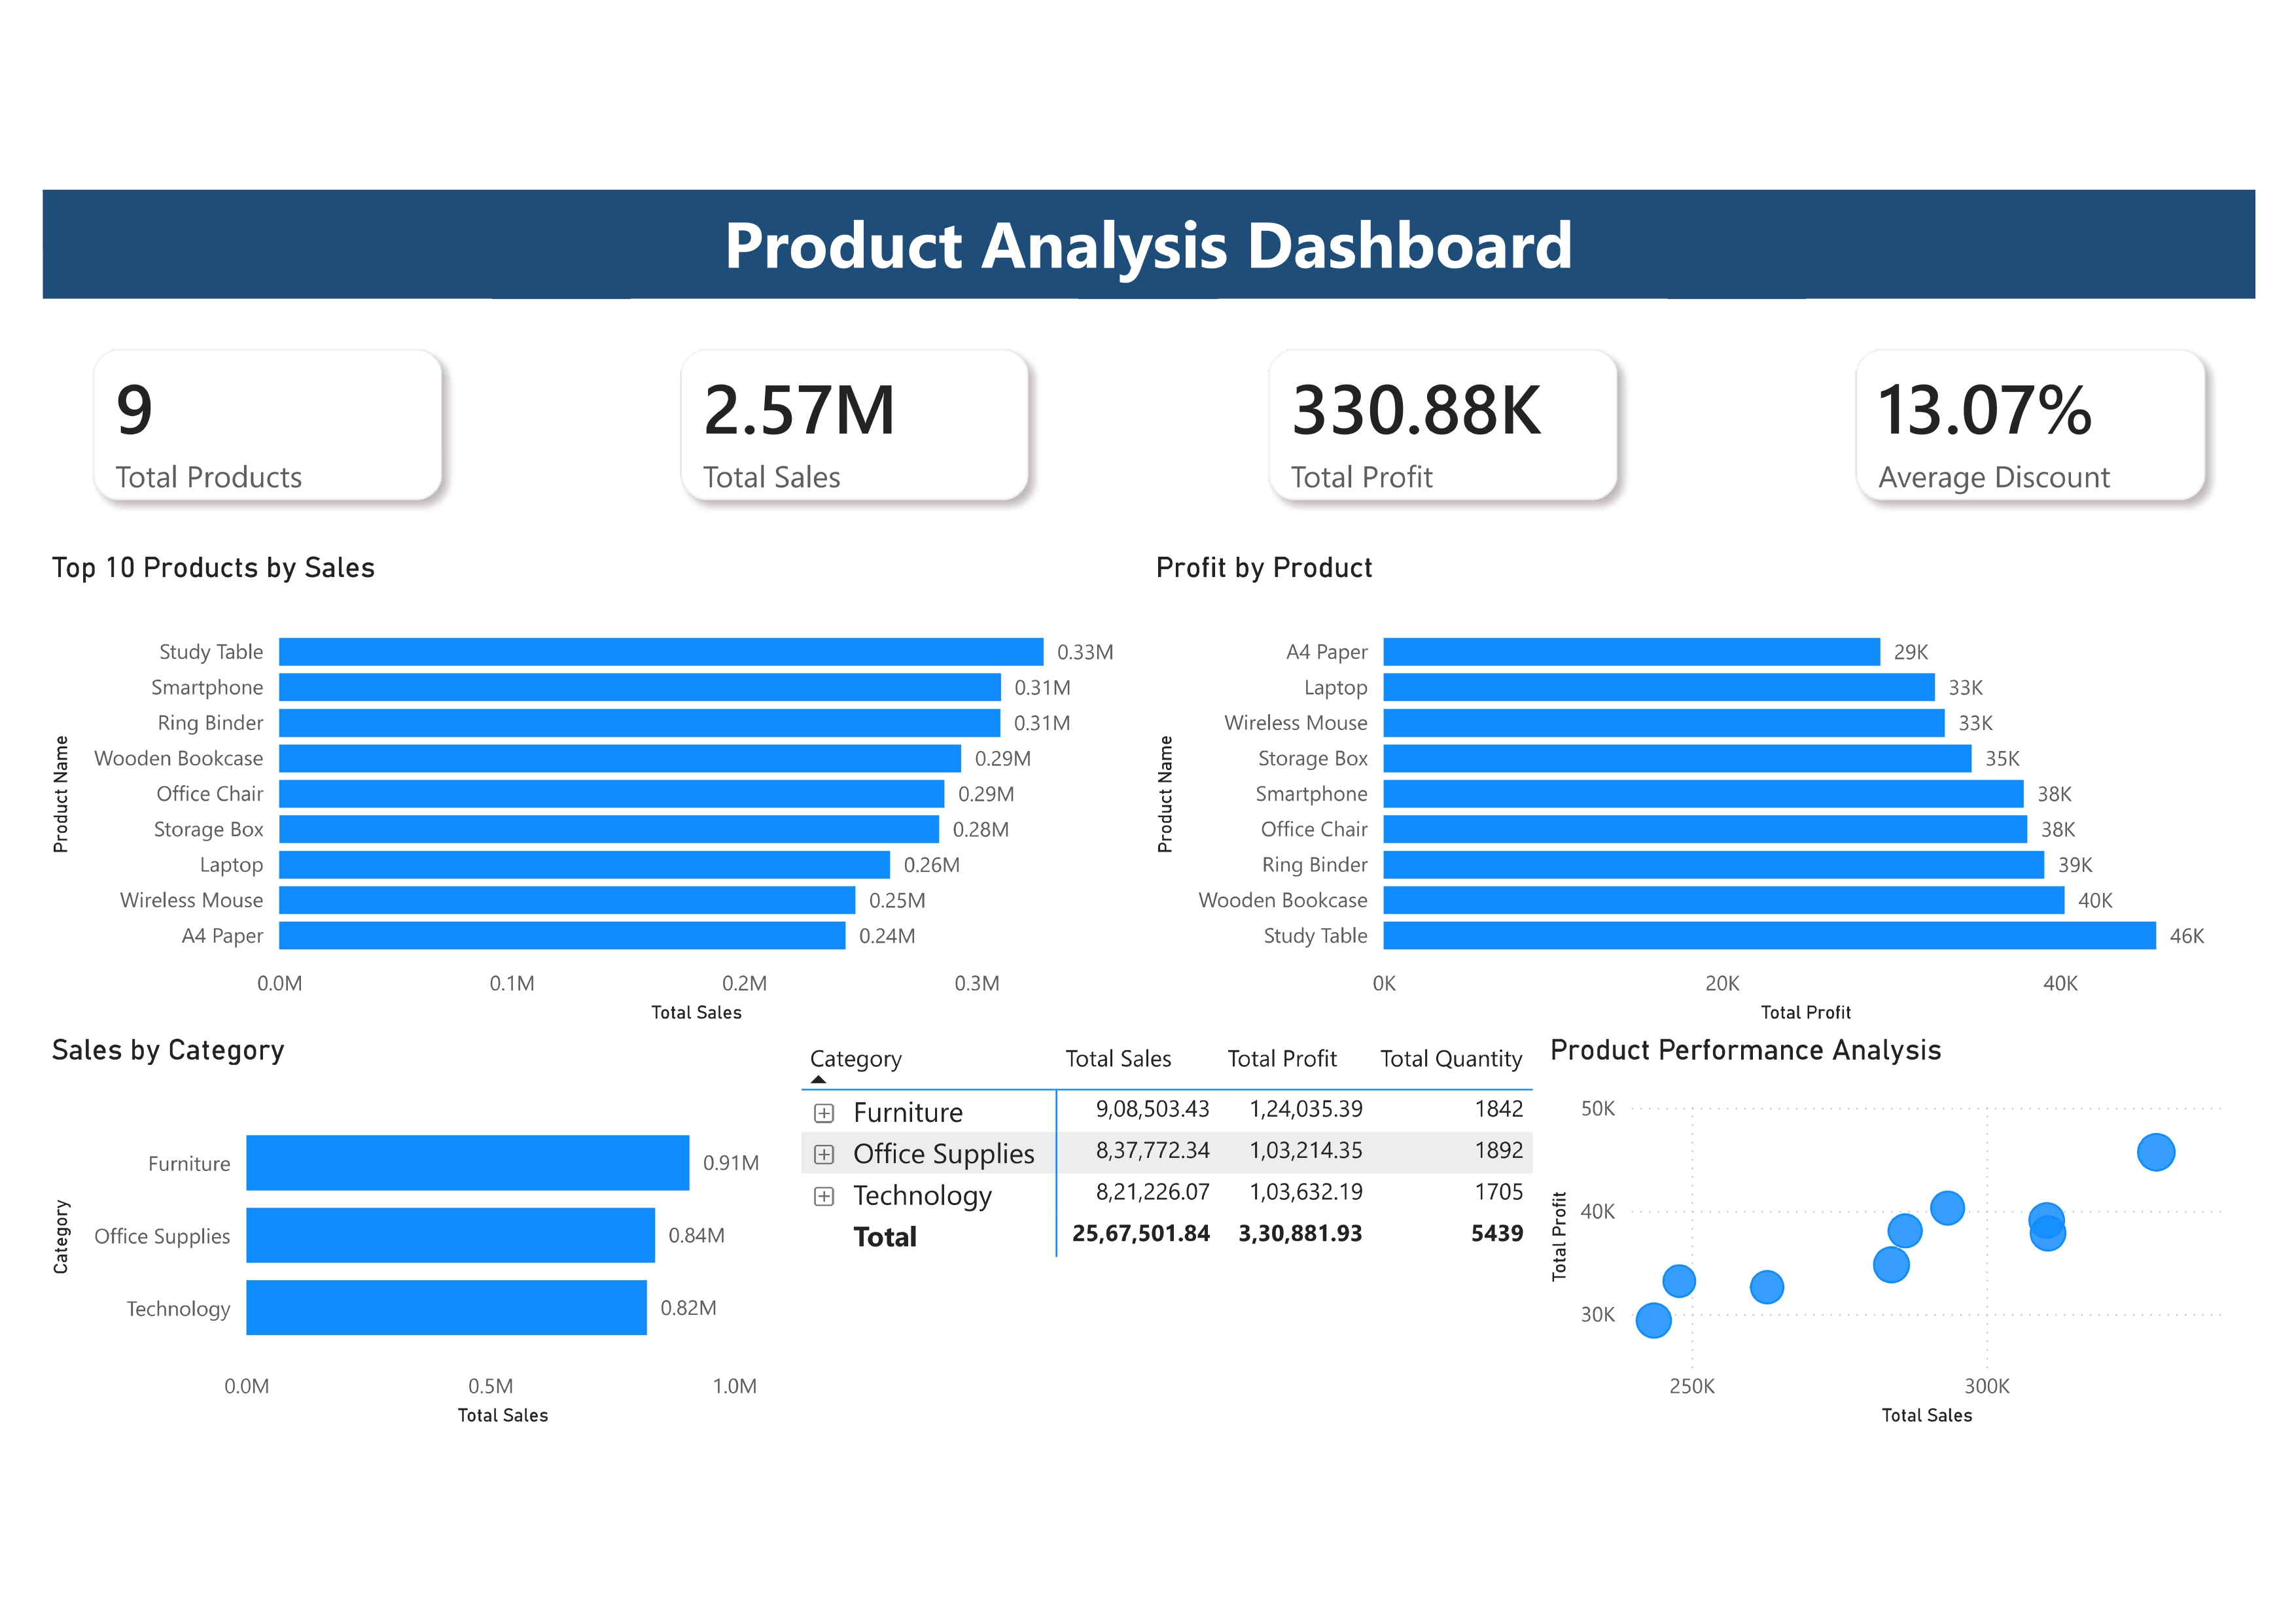

The dashboard page shown, as its layout file describes it:
{"tool":"powerbi","page":{"name":"Product Analysis","canvas":[1280,720],"ordinal":1},"visuals":[{"type":"textbox","box":[0,0,1280.3,63.4],"z":0},{"type":"cardVisual","fields":{"Data":["Orders.Total Products"]},"box":[0,63.4,260.4,144.4],"z":1000},{"type":"cardVisual","fields":{"Data":["Orders.Total Sales"]},"box":[340,63.4,259,144.4],"z":2000},{"type":"cardVisual","fields":{"Data":["Orders.Total Profit"]},"box":[679.9,63.4,260.4,144.4],"z":3000},{"type":"cardVisual","fields":{"Data":["Orders.Average Discount"]},"box":[1019.9,63.4,260.4,144.4],"z":4000},{"type":"clusteredBarChart","title":"Top 10 Products by Sales","fields":{"Category":["Orders.Product Name"],"Y":["Orders.Total Sales"]},"box":[0,207.8,639.5,279.3],"z":5000},{"type":"clusteredBarChart","title":"Profit by Product","fields":{"Category":["Orders.Product Name"],"Y":["Orders.Total Profit"]},"box":[639.5,207.8,640.8,279.3],"z":6000},{"type":"clusteredBarChart","title":"Sales by Category","fields":{"Category":["Orders.Category"],"Y":["Orders.Total Sales"]},"box":[0,487,434.4,233.4],"z":7000},{"type":"scatterChart","title":"Product Performance Analysis","fields":{"Category":["Orders.Product Name"],"Size":["Orders.Total Quantity"],"X":["Orders.Total Sales"],"Y":["Orders.Total Profit"]},"box":[867.5,487,412.8,233.4],"z":8000},{"type":"pivotTable","fields":{"Rows":["Orders.Category","Orders.Sub Category","Orders.Product Name"],"Values":["Orders.Total Sales","Orders.Total Profit","Orders.Total Quantity"]},"box":[434.4,487,433.1,233.4],"z":9000}]}

Visuals, with their boxes on the page's 1280x720 design canvas (x1, y1, x2, y2). These are canvas units, not pixel positions in the 2296x1623 screenshot, which may show the page scaled, cropped or inside an application window:
textbox: (left=0, top=0, right=1280, bottom=63)
cardVisual - Orders.Total Products: (left=0, top=63, right=260, bottom=208)
cardVisual - Orders.Total Sales: (left=340, top=63, right=599, bottom=208)
cardVisual - Orders.Total Profit: (left=680, top=63, right=940, bottom=208)
cardVisual - Orders.Average Discount: (left=1020, top=63, right=1280, bottom=208)
"Top 10 Products by Sales" clusteredBarChart: (left=0, top=208, right=640, bottom=487)
"Profit by Product" clusteredBarChart: (left=640, top=208, right=1280, bottom=487)
"Sales by Category" clusteredBarChart: (left=0, top=487, right=434, bottom=720)
"Product Performance Analysis" scatterChart: (left=868, top=487, right=1280, bottom=720)
pivotTable - Orders.Category x Orders.Sub Category: (left=434, top=487, right=868, bottom=720)
